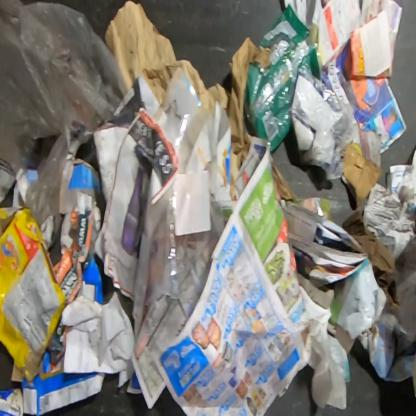cardboard: (0, 204, 70, 383), (340, 209, 401, 310), (22, 352, 107, 415), (343, 142, 385, 208), (68, 159, 107, 229), (82, 256, 120, 305), (0, 158, 17, 205), (0, 388, 24, 415)
soft_plastic: (0, 0, 129, 250), (136, 74, 226, 322), (244, 2, 323, 154), (289, 66, 361, 180)
